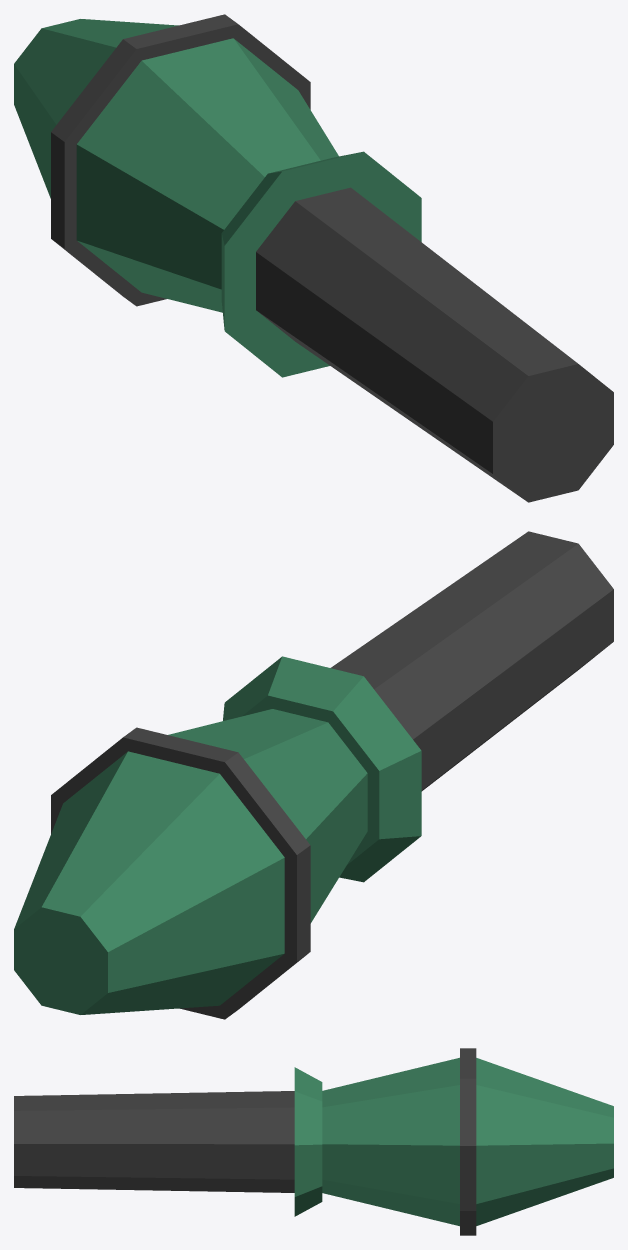
Rendered from ammo_rocket.dae.
The picture shows the model from 3 angles, top to bottom: view 1: azimuth 30°, elevation 25°; view 2: azimuth 150°, elevation 25°; view 3: azimuth 270°, elevation 25°; orthographic projection. The views are drawn at different scales.
Parts seen in each view (by area): view 1: ammo_rocket; view 2: ammo_rocket; view 3: ammo_rocket.
Boxes of the visible parts, x1,y1,x2,y2 form: ammo_rocket: (14, 14, 613, 502); ammo_rocket: (14, 531, 613, 1019); ammo_rocket: (14, 1048, 613, 1235).
Size of the model in its own units: 0.1203 by 0.1203 by 0.4173.
